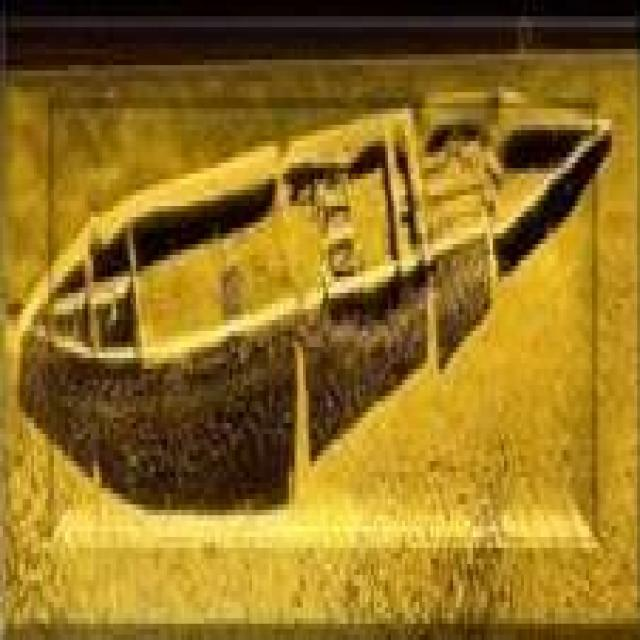shipwreck: (14, 81, 615, 466)
